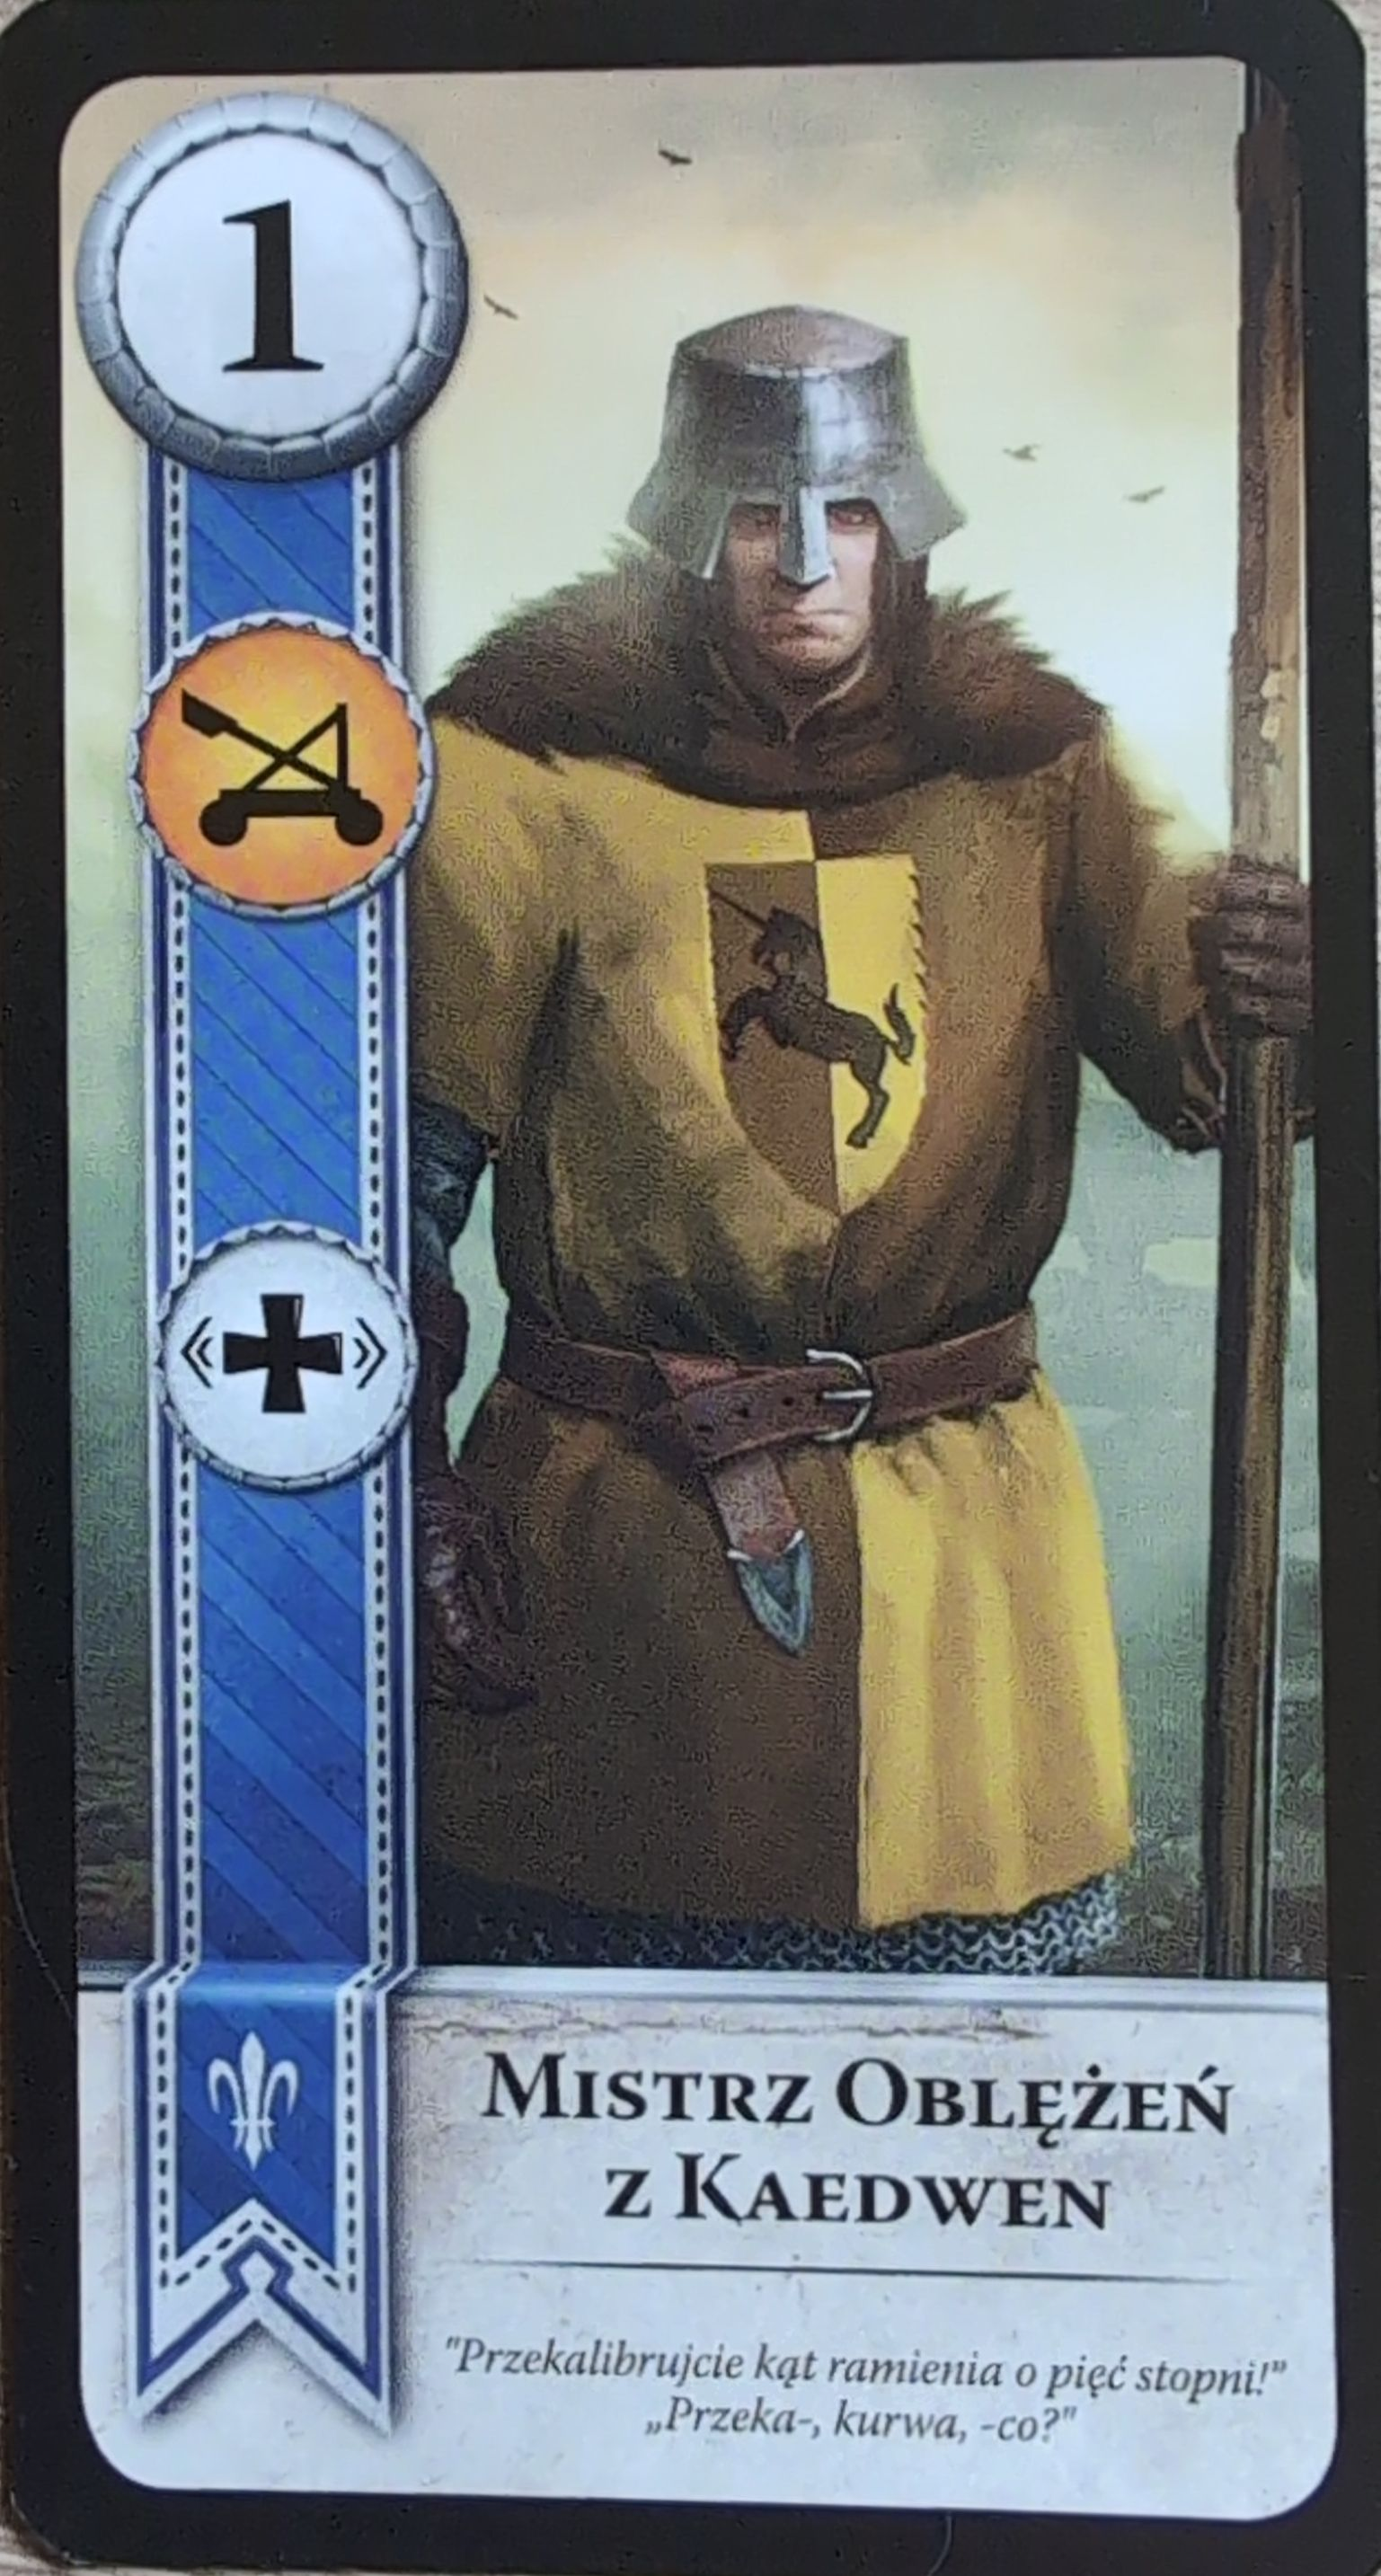katapulta: (112, 584, 451, 917)
punkty: (99, 106, 467, 460)
wysokie morale: (141, 1198, 426, 1492)
